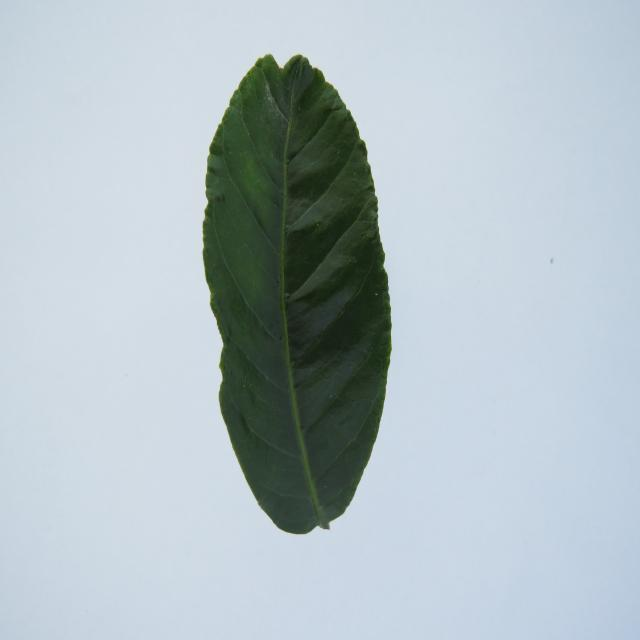DeficienciaNutricional-Boro: (204, 55, 391, 533)
